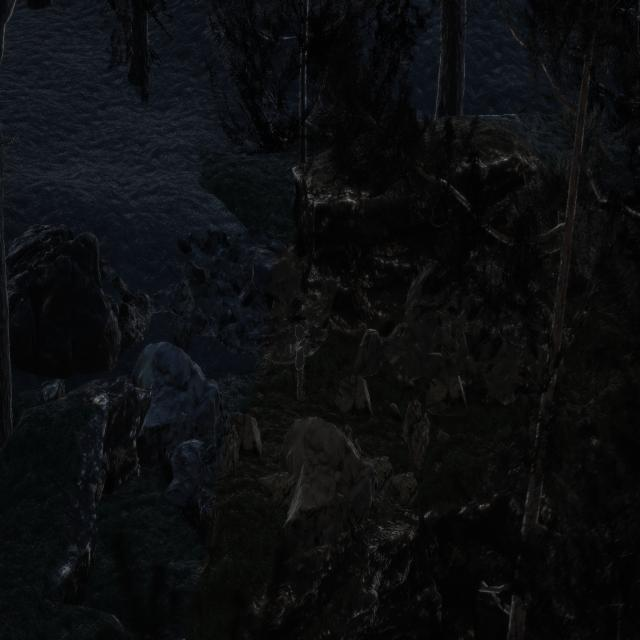Human: (288, 308, 315, 414)
